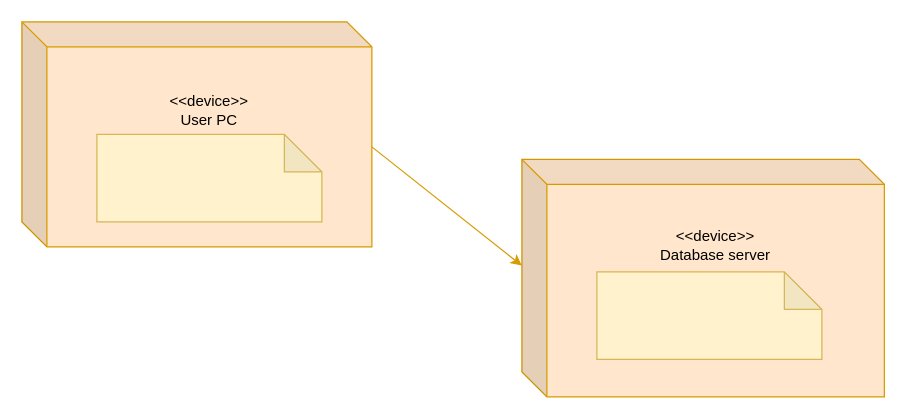
The diagram is 906 pixels wide and 419 high, and some of its shapes have lost their labels. The shapes that lost their labels are listed below. From the top down, each one's centre as x and y in pixels, then its label:
At (209,177): "<<device>> Web Browser".
At (709,315): "<<artifact>> MySQL Server".
